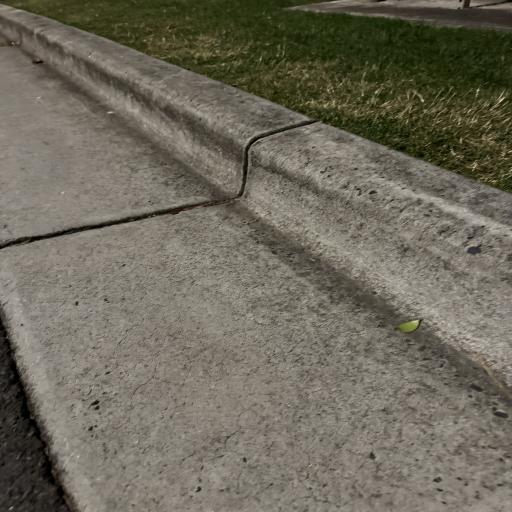kerb: (0, 5, 512, 512)
